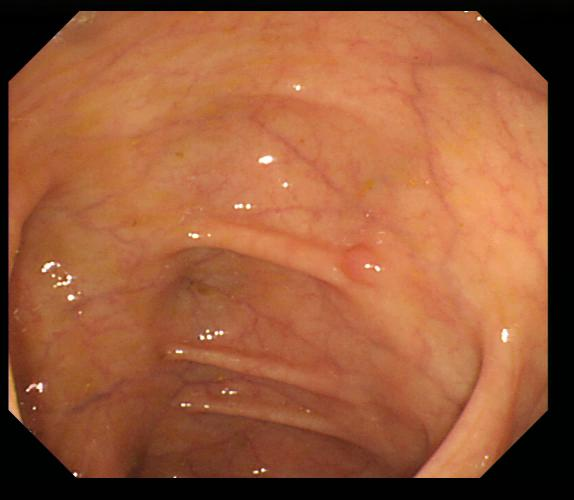polyp: (337, 241, 386, 285)
